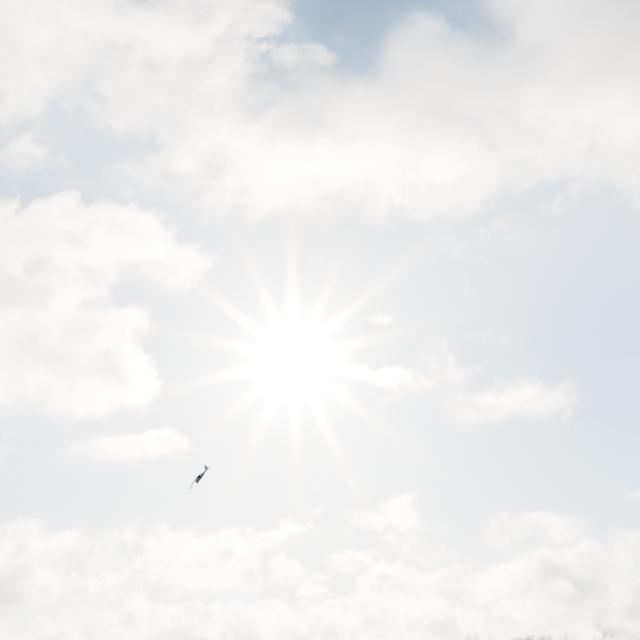Airaplan: (189, 464, 212, 490)
